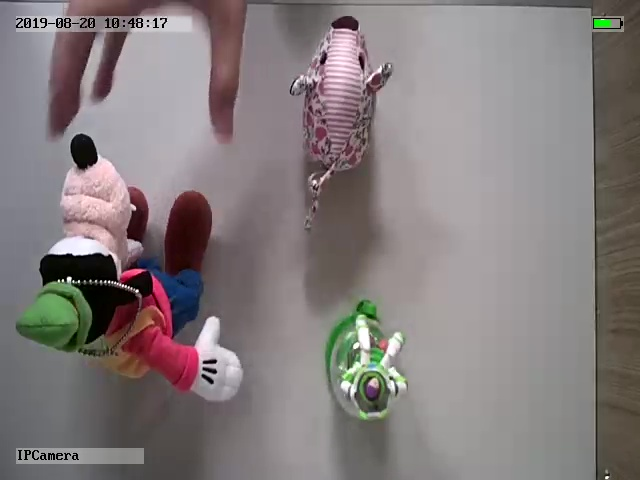buzz: (321, 298, 412, 424)
goofy: (16, 133, 245, 403)
pig: (285, 16, 395, 233)
